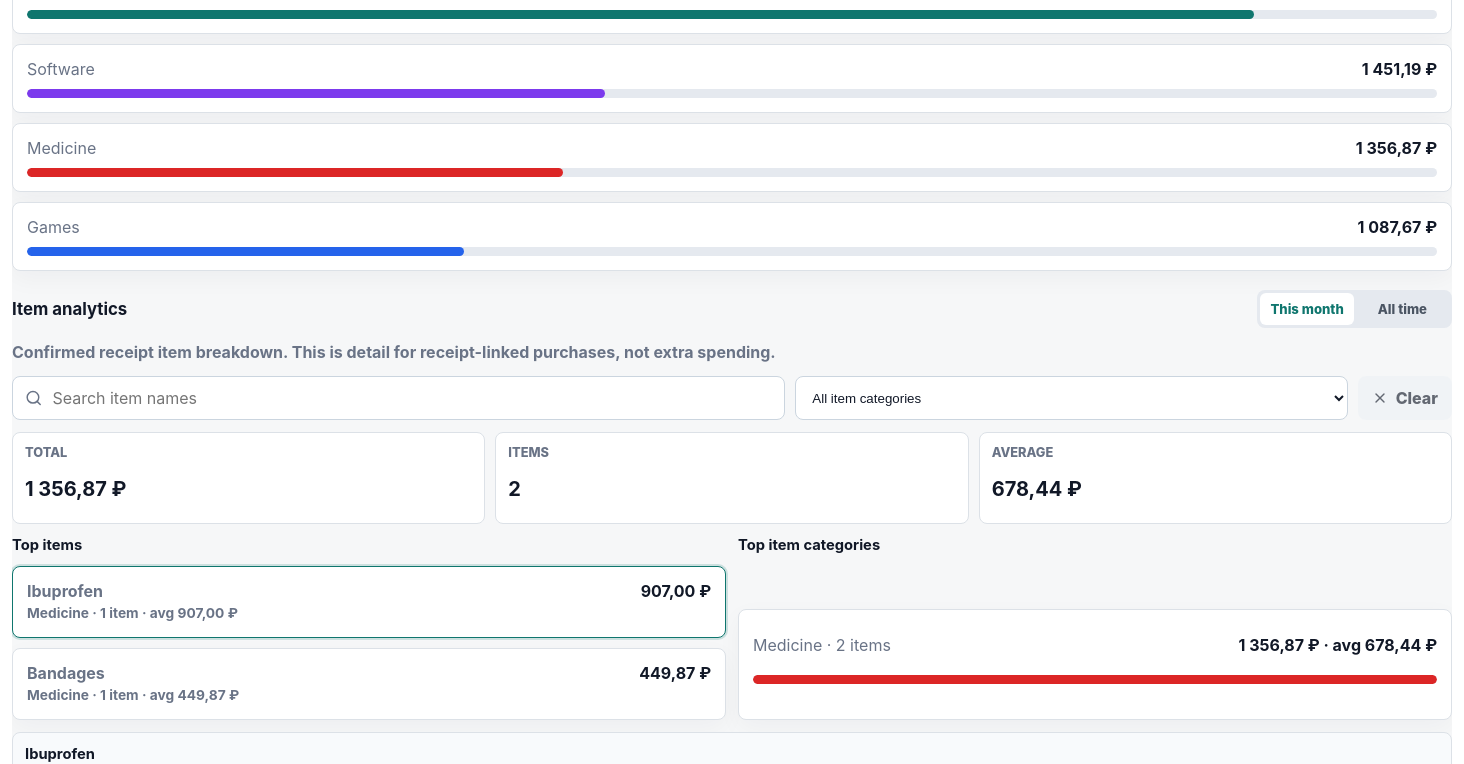
Test case: DashboardPage › shows a search empty state
(page scrolled)
Type "no such item" into the search field named "Search items" at point(411, 398), box [50,387,772,409]
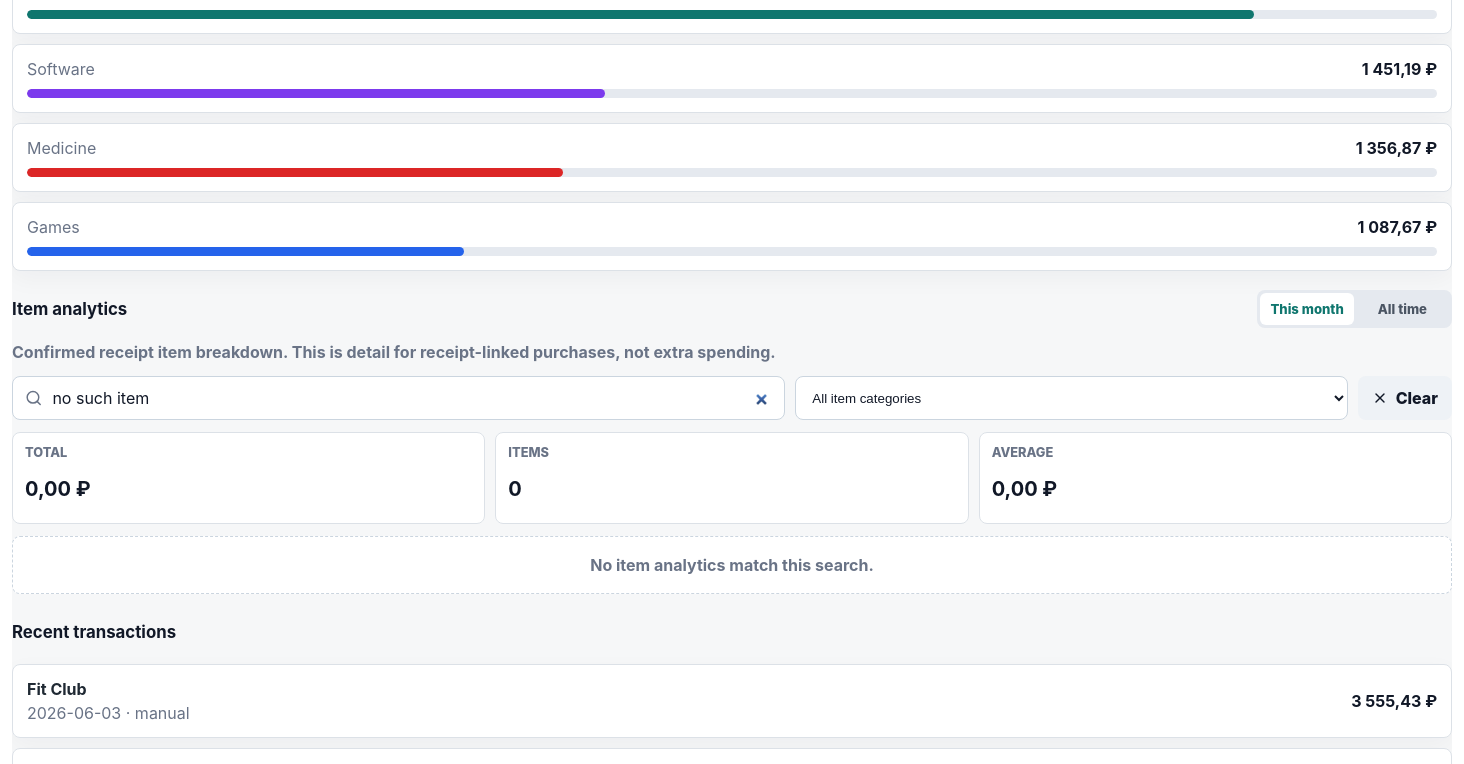
Result: the text "No item analytics match this search." is shown at [12,536,1452,594]
